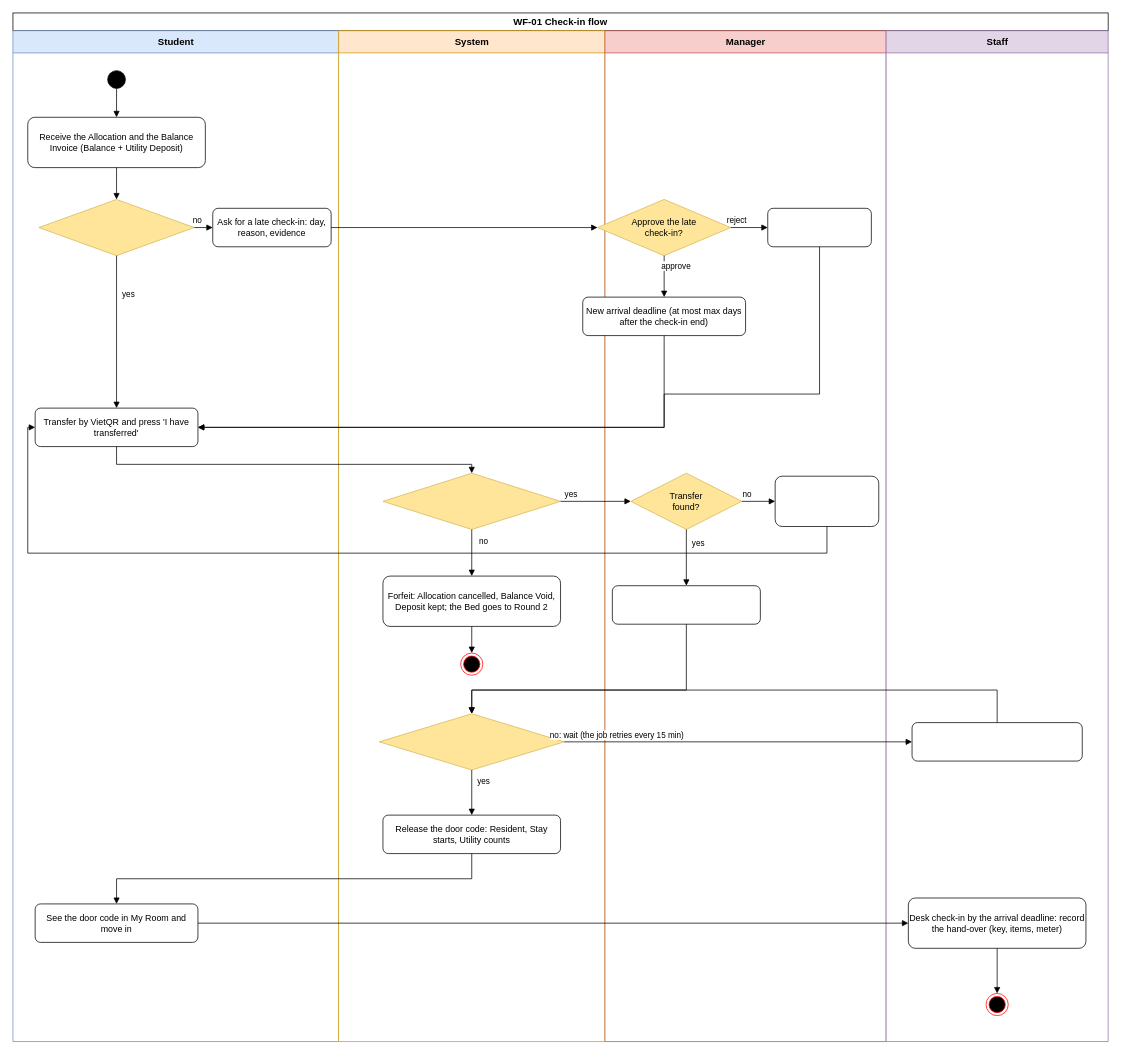
Some shapes in this 1121 by 1055 pixel diagram are drawn without their labels. The centre of each missing label's shape, as x and y in pixels:
"Can arrive in the check-in window?" belongs at pixel 116 227.
"Check-in start reached and the Room's code confirmed?" belongs at pixel 471 741.
"Claim before the Balance deadline?" belongs at pixel 471 500.
"Confirm the claim: Balance Paid" belongs at pixel 686 604.
"Confirm the Room's new code on the lock" belongs at pixel 996 741.
"Reject the claim with a reason (time continues)" belongs at pixel 826 501.
"Reject with a reason" belongs at pixel 819 227.
